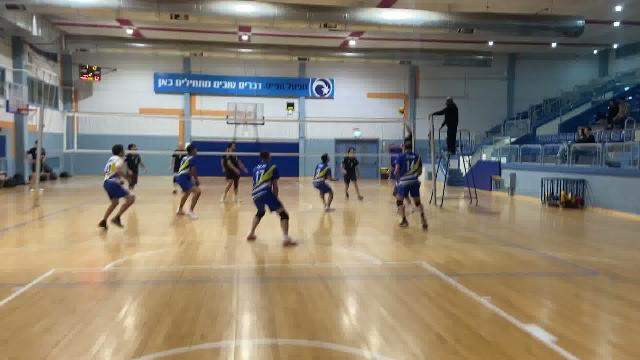ball: (396, 107, 407, 117)
